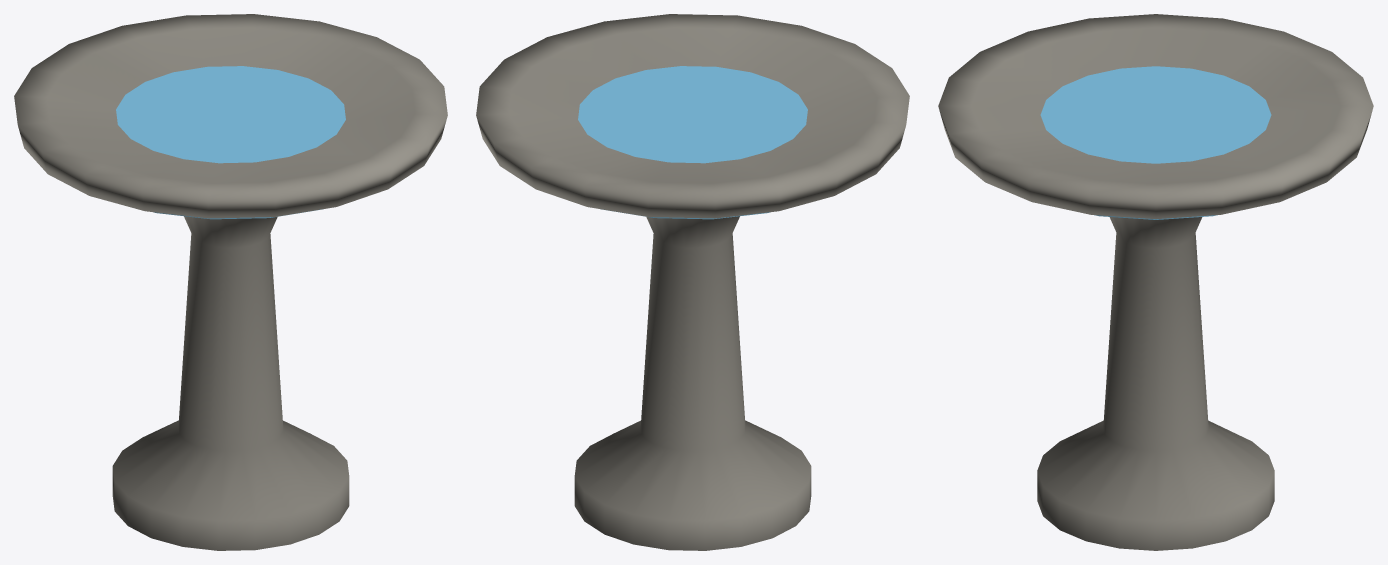
The model's file is furn_dp_birdbath.glb.
The picture shows the model from 3 angles, left to right: view 1: azimuth 30°, elevation 25°; view 2: azimuth 150°, elevation 25°; view 3: azimuth 270°, elevation 25°; orthographic projection.
Parts seen in each view (by area): view 1: furn_dp_birdbath_main, furn_dp_birdbath_gloss; view 2: furn_dp_birdbath_main, furn_dp_birdbath_gloss; view 3: furn_dp_birdbath_main, furn_dp_birdbath_gloss.
Part boxes in pixels (<box>): furn_dp_birdbath_main: <box>14,14,447,550</box>; furn_dp_birdbath_gloss: <box>116,66,345,219</box>; furn_dp_birdbath_main: <box>476,14,909,550</box>; furn_dp_birdbath_gloss: <box>578,66,807,219</box>; furn_dp_birdbath_main: <box>938,14,1373,550</box>; furn_dp_birdbath_gloss: <box>1040,66,1271,219</box>.
Bounding box in the file's own units: 0.66 × 0.66 × 0.66.
